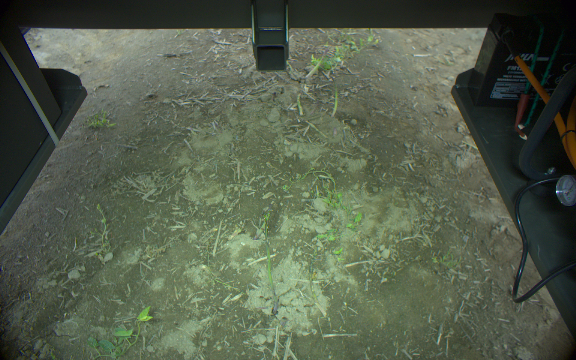aspa: (260, 204, 279, 317), (328, 79, 341, 118), (295, 90, 304, 116)
